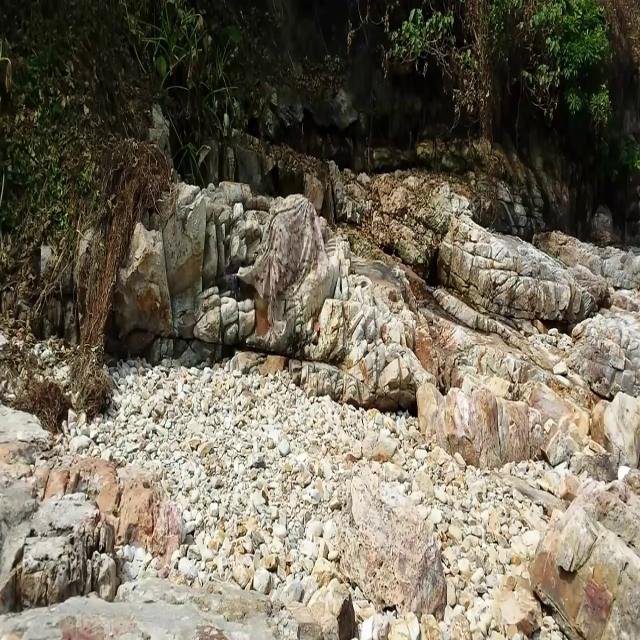camouflaged: (248, 194, 337, 353)
